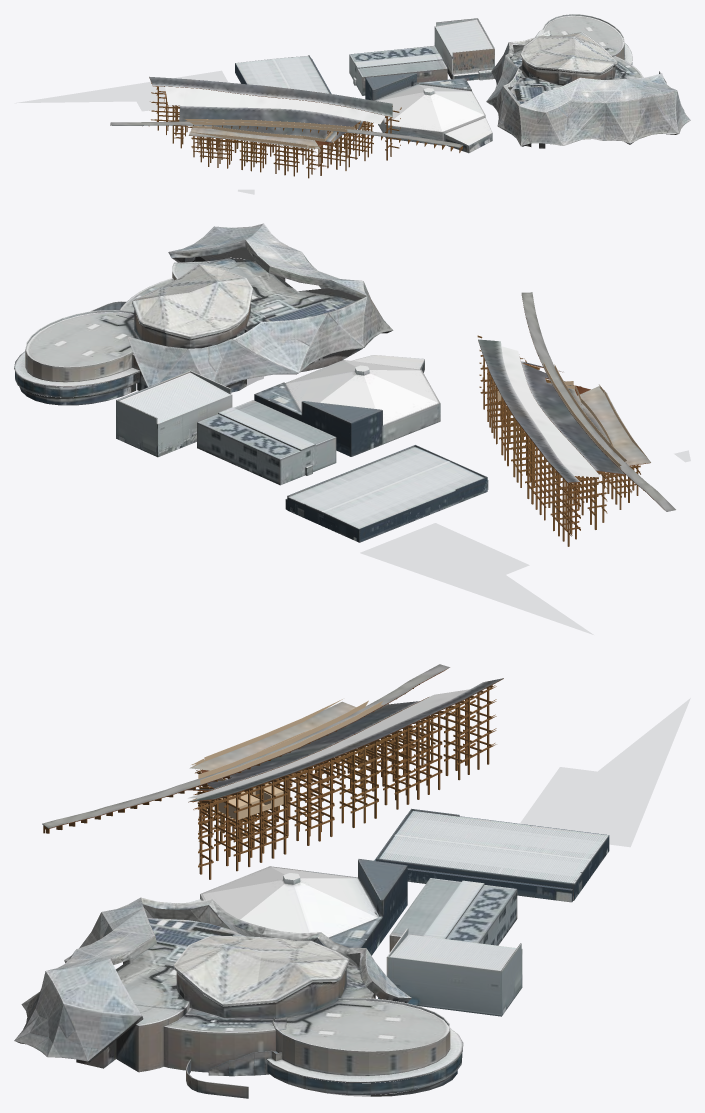
The picture shows the model from 3 angles, top to bottom: view 1: azimuth 30°, elevation 25°; view 2: azimuth 150°, elevation 25°; view 3: azimuth 270°, elevation 25°; orthographic projection. The views are drawn at different scales.
Visible parts, largest first — view 1: Buildings_建物パビリオン, GrandRoofRing_大屋根リング; view 2: Buildings_建物パビリオン, GrandRoofRing_大屋根リング; view 3: Buildings_建物パビリオン, GrandRoofRing_大屋根リング.
Part boxes in pixels (x1,y1,x2,y2): Buildings_建物パビリオン: [14, 14, 690, 194]; GrandRoofRing_大屋根リング: [110, 76, 463, 178]; Buildings_建物パビリオン: [14, 223, 690, 634]; GrandRoofRing_大屋根リング: [477, 292, 675, 546]; Buildings_建物パビリオン: [14, 698, 690, 1098]; GrandRoofRing_大屋根リング: [42, 664, 503, 879].
Bounding box in the file's own units: 220 × 21.38 × 157.
10 materials, 8 textured.
